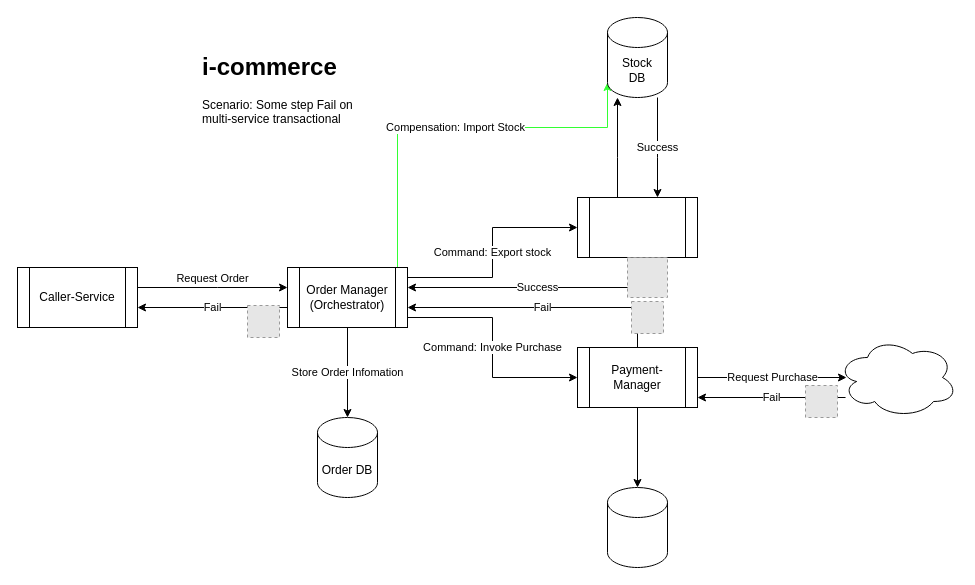
The diagram is 975 pixels wide and 585 high, and some of its shapes have lost their labels. Grey dashed boxes stand in for pictures. Here are the shapes that lost their labels. From the top down, the centre of each, then its label:
point (637, 227): Stock-Manager
point (897, 377): Payment Gateway
point (637, 527): Payment TRX Log
